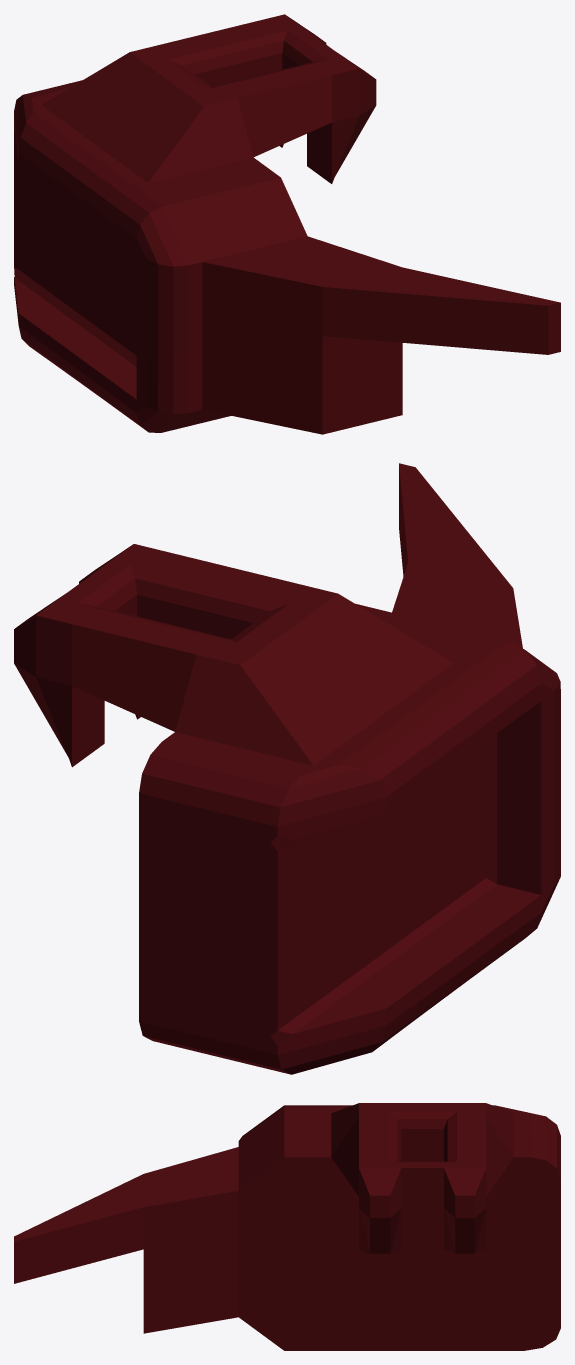
Rendered from cyber_mount_l.glb.
3 views of the same model, one above another, from view 1: azimuth 30°, elevation 25°; view 2: azimuth 150°, elevation 25°; view 3: azimuth 270°, elevation 25° (orthographic). The views are drawn at different scales.
Visible parts, largest first — view 1: Mount_L; view 2: Mount_L; view 3: Mount_L.
Boxes of the visible parts, left/top/right/bottom form: Mount_L: left=14, top=14, right=560, bottom=434; Mount_L: left=14, top=463, right=560, bottom=1074; Mount_L: left=14, top=1103, right=560, bottom=1350.
Size of the model in its own units: 0.5171 by 0.4662 by 0.9884.
Materials: 1 (1 with a texture image).
